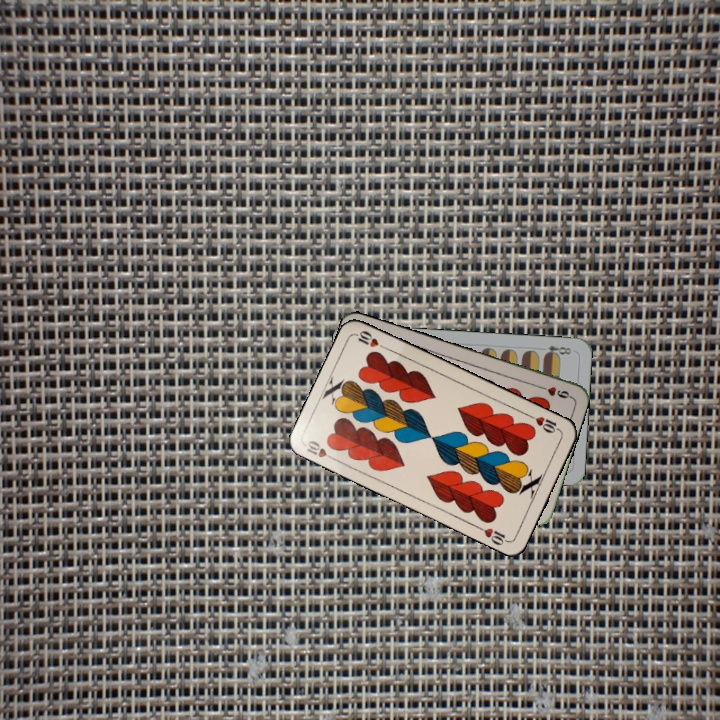E8: (535, 342, 574, 359)
H10: (302, 437, 339, 464), (525, 411, 563, 436)
H9: (534, 381, 573, 401)
